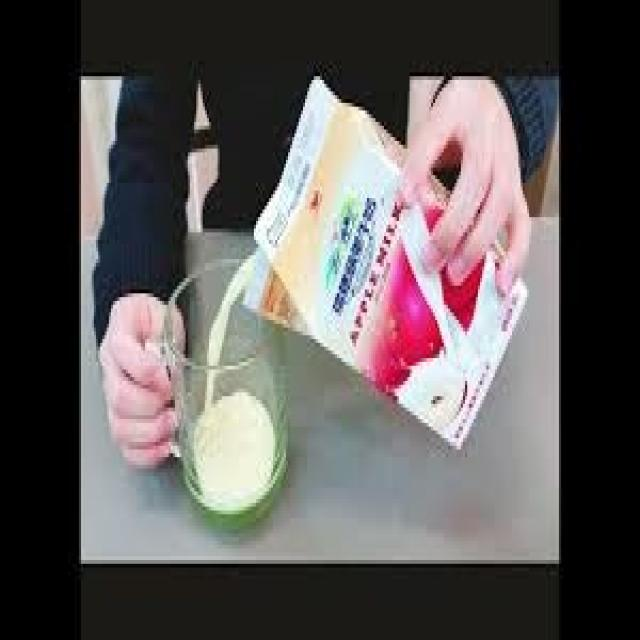RuiSui_AppleMilk: (248, 71, 530, 455)
